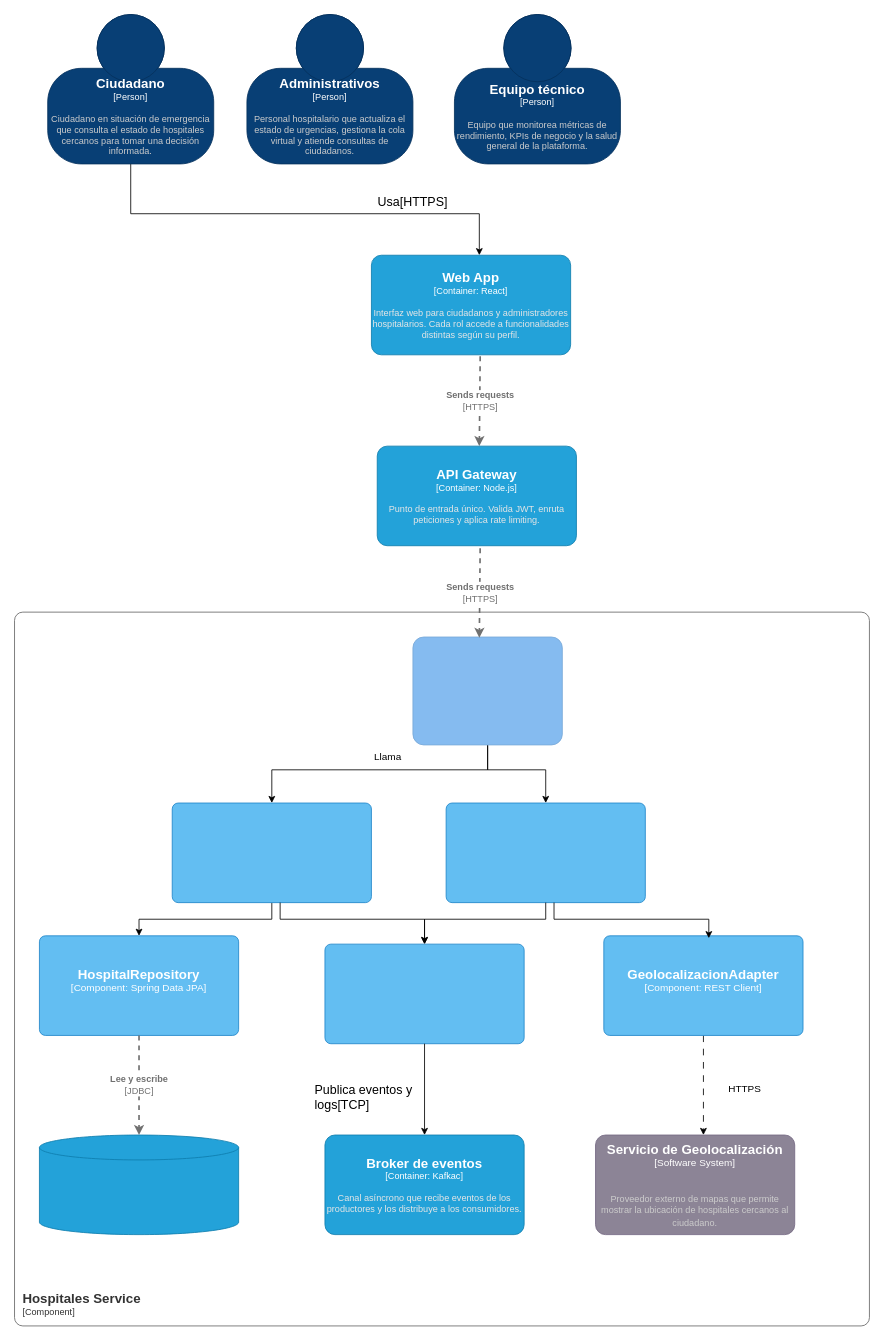
This 884x1340 diagram has some shape labels left out. Each missing label, with the centre of its shape:
"ActualizarEstadoUseCase [Component: Use Case]" goes at pixel 271 852.
"ConsultarHospitalesUseCase [Component: Use Case]" goes at pixel 545 852.
"DATABASE [Container: PostgreSQL] Almacena datos de hospitales y estados." goes at pixel 139 1184.
"HospitalController [Component: REST Controller]" goes at pixel 487 690.
"KafkaEventPublisher [Component: Spring Kafka]" goes at pixel 424 993.
